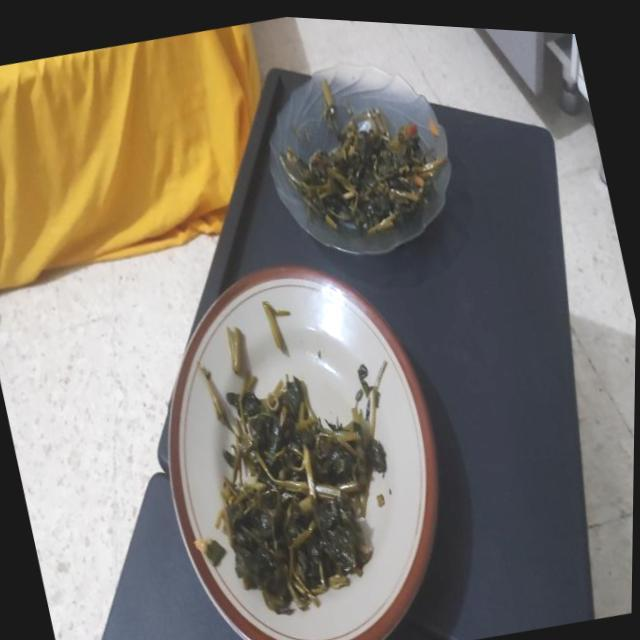tumis_kangkung: (216, 374, 387, 613), (280, 108, 432, 234)
